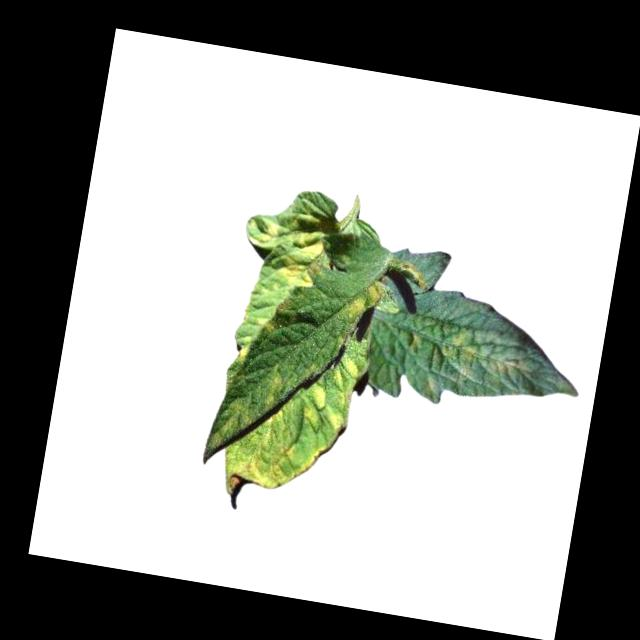Leaf_Mold: (198, 339, 361, 509), (238, 211, 337, 297), (404, 324, 536, 383), (343, 274, 392, 325)
